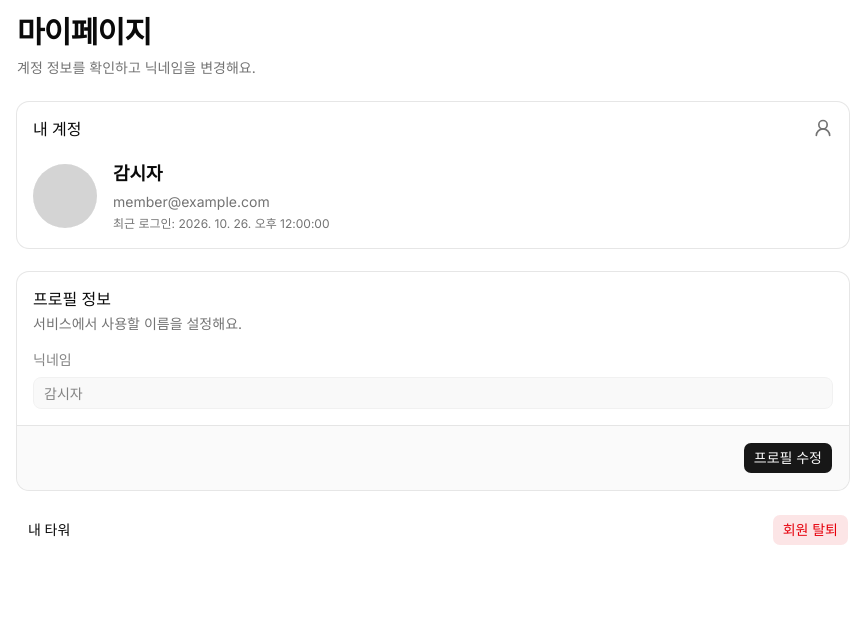
프로필 저장이 실패하면 오류를 표시하고 수정 상태를 유지할 것이다
The image size is (867, 626).
Click the button "프로필 수정". click: (788, 458)
box: top-left (743, 442), bottom-right (833, 474)
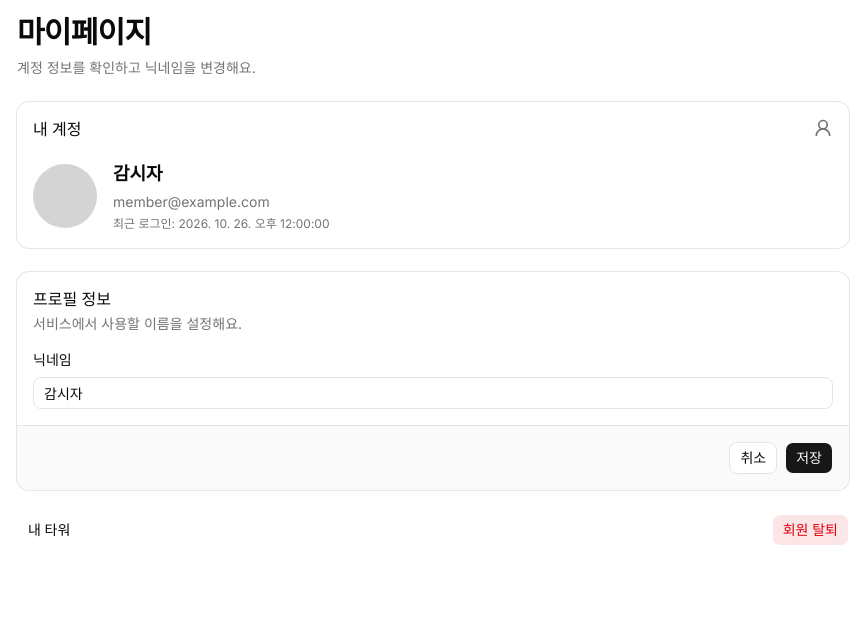
Click the button "저장". click: (809, 458)
box: top-left (785, 442), bottom-right (833, 474)
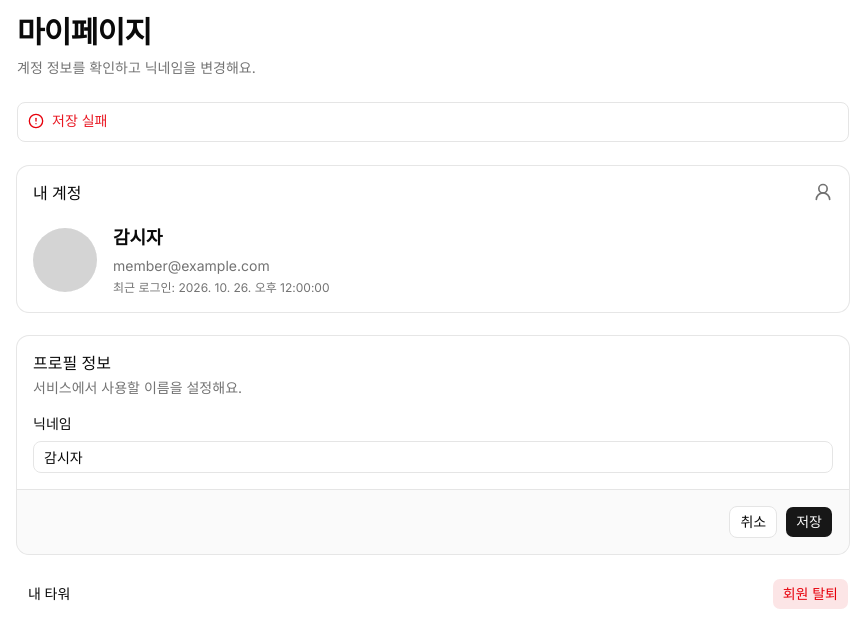
Expected: the field labelled "닉네임" is enabled, top-left (33, 441), bottom-right (833, 473)
Expected: the text "저장 실패" is shown, top-left (52, 112), bottom-right (108, 129)
